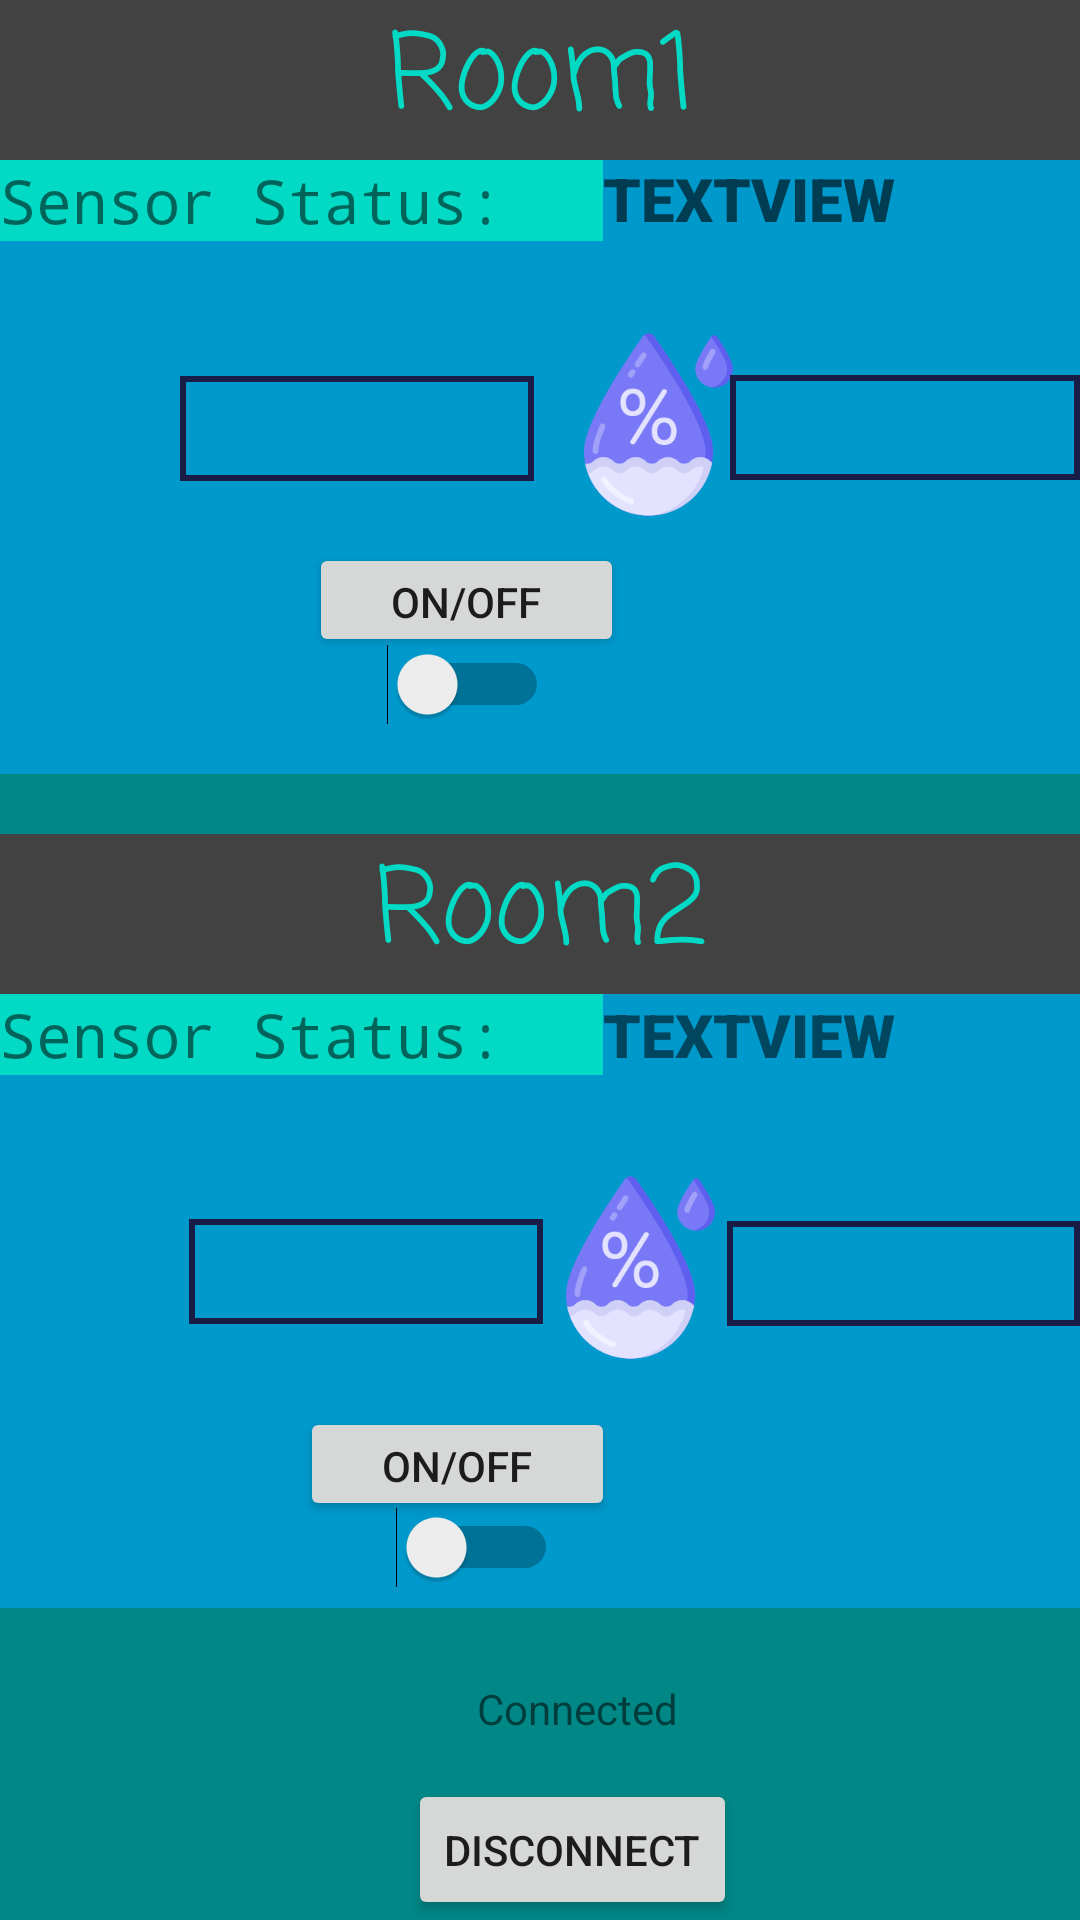

Where to tap for icons on this 1080x1920 app screen, as [x,y]:
humidity: [648,424], [640,1267]
